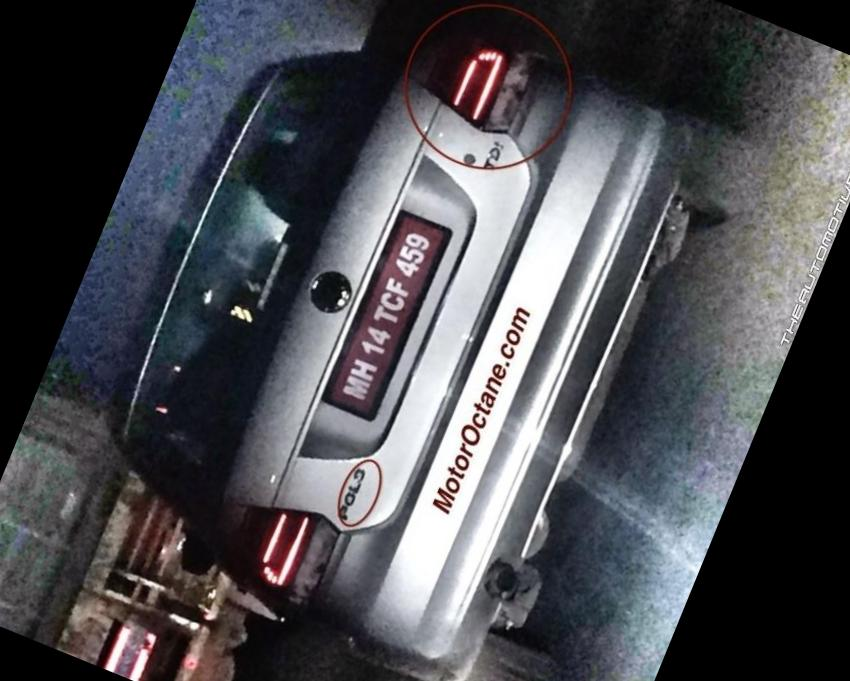plate: (312, 200, 453, 435)
